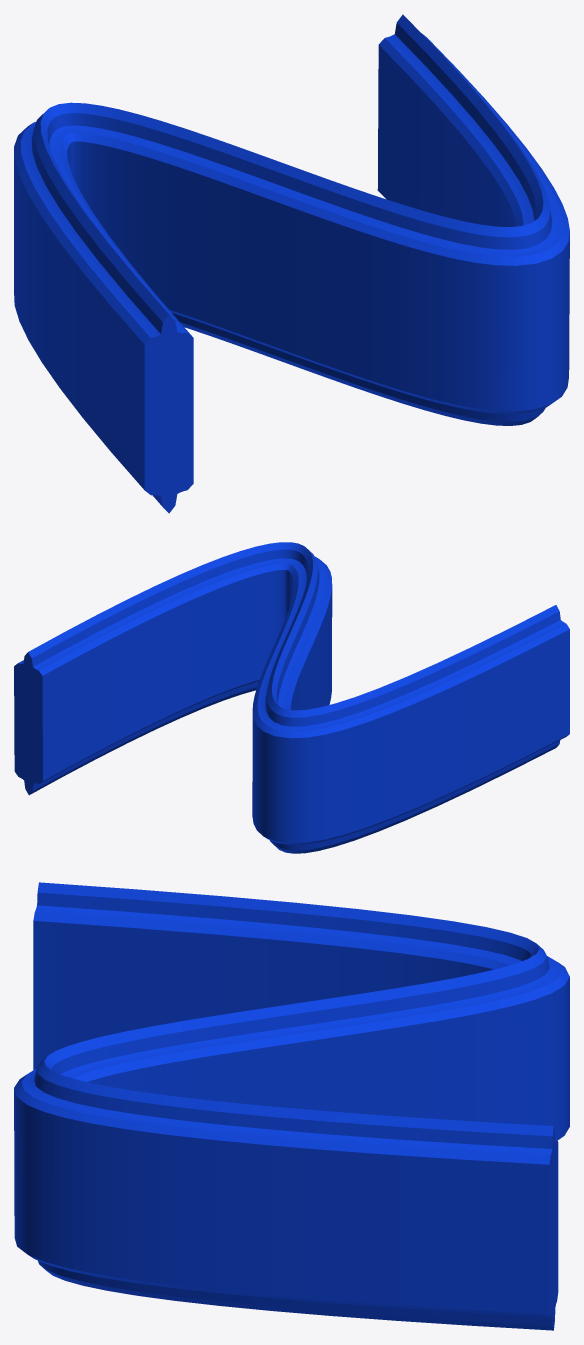
The model's file is aspnet-3d.glb.
3 renders of one model, top to bottom at view 1: azimuth 30°, elevation 25°; view 2: azimuth 150°, elevation 25°; view 3: azimuth 270°, elevation 25°, orthographic. The views are drawn at different scales.
Parts seen in each view (by area): view 1: NurbsPath; view 2: NurbsPath; view 3: NurbsPath.
Boxes of the visible parts, x1,y1,x2,y2 form: NurbsPath: (14,14,569,513); NurbsPath: (14,542,569,853); NurbsPath: (14,882,569,1330).
Bounding box in the file's own units: 9.62 × 3.49 × 8.53.
